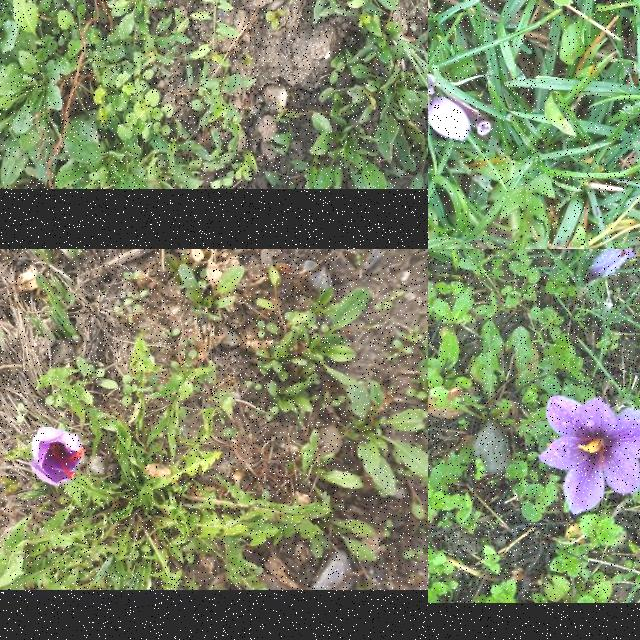flower: (536, 394, 640, 515), (30, 428, 84, 488), (428, 96, 472, 142), (590, 249, 635, 276)
